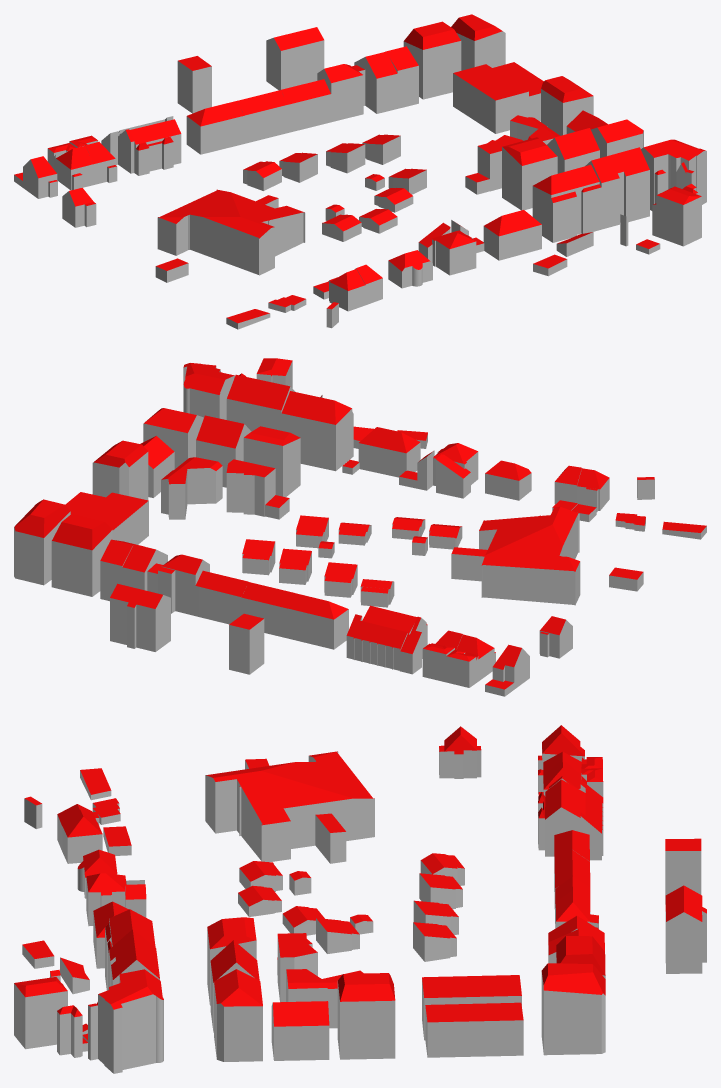
3 views of the same model, one above another, from view 1: azimuth 30°, elevation 25°; view 2: azimuth 150°, elevation 25°; view 3: azimuth 270°, elevation 25° (orthographic). The views are drawn at different scales.
Bounding box in the file's own units: 202 × 24.12 × 193.
